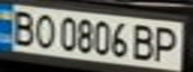0: (54, 14, 78, 52), (90, 18, 112, 56)
6: (109, 19, 133, 60)
8: (75, 16, 93, 55)
B: (6, 7, 39, 46), (130, 21, 160, 62)
O: (30, 11, 57, 50)
P: (148, 24, 184, 64)
